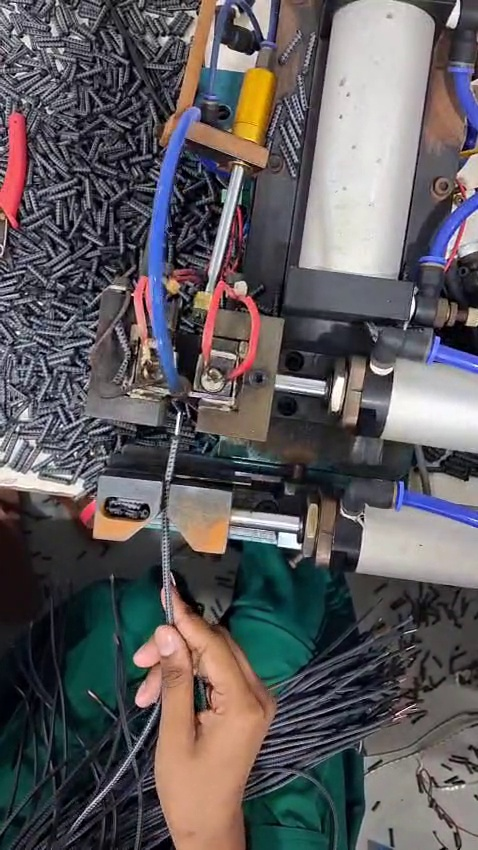machine: (72, 270, 299, 514)
peeled_wire: (153, 396, 210, 472)
